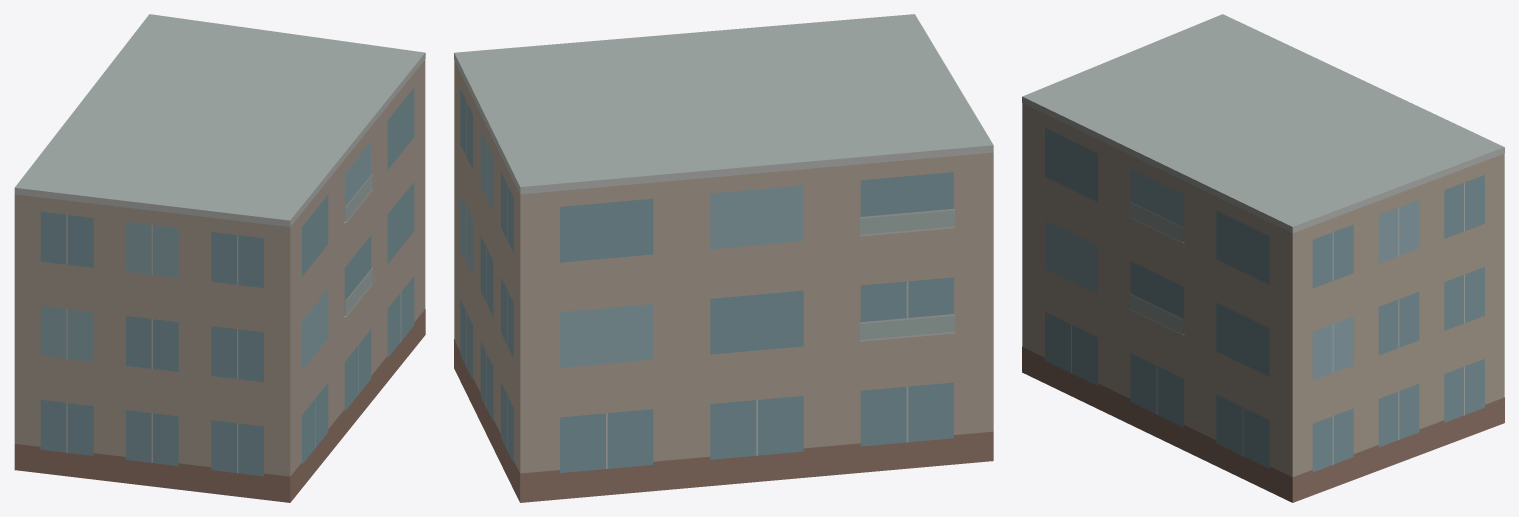
Rendered from survey-upis-32618560.glb.
3 renders of one model, left to right at view 1: azimuth 30°, elevation 25°; view 2: azimuth 150°, elevation 25°; view 3: azimuth 270°, elevation 25°, orthographic. The views are drawn at different scales.
Visible parts, largest first — view 1: survey-upis-32618560.tmp; view 2: survey-upis-32618560.tmp; view 3: survey-upis-32618560.tmp.
Boxes of the visible parts, left/top/right/bottom form: survey-upis-32618560.tmp: left=14, top=14, right=425, bottom=502; survey-upis-32618560.tmp: left=454, top=14, right=993, bottom=502; survey-upis-32618560.tmp: left=1022, top=14, right=1504, bottom=502.
Size of the model in its own units: 17.56 by 10.6 by 16.81.
